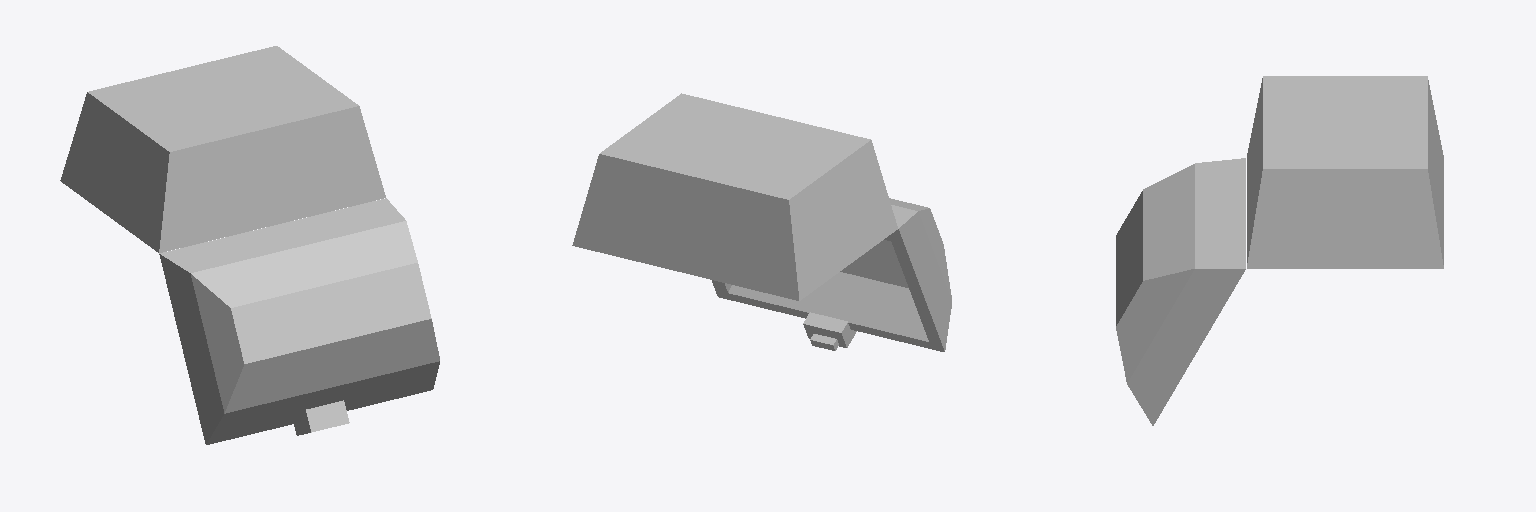
The model's file is cofre-riggin_000026.obj.
The picture shows the model from 3 angles: view 1: azimuth 30°, elevation 25°; view 2: azimuth 150°, elevation 25°; view 3: azimuth 270°, elevation 25°; orthographic projection.
Parts seen in each view (by area): view 1: Cube; view 2: Cube; view 3: Cube.
Part boxes in pixels (left/top/right/bottom): Cube: left=60, top=46, right=439, bottom=444; Cube: left=572, top=93, right=951, bottom=351; Cube: left=1116, top=76, right=1443, bottom=425.
Bounding box in the file's own units: 33.92 × 37.99 × 42.43.